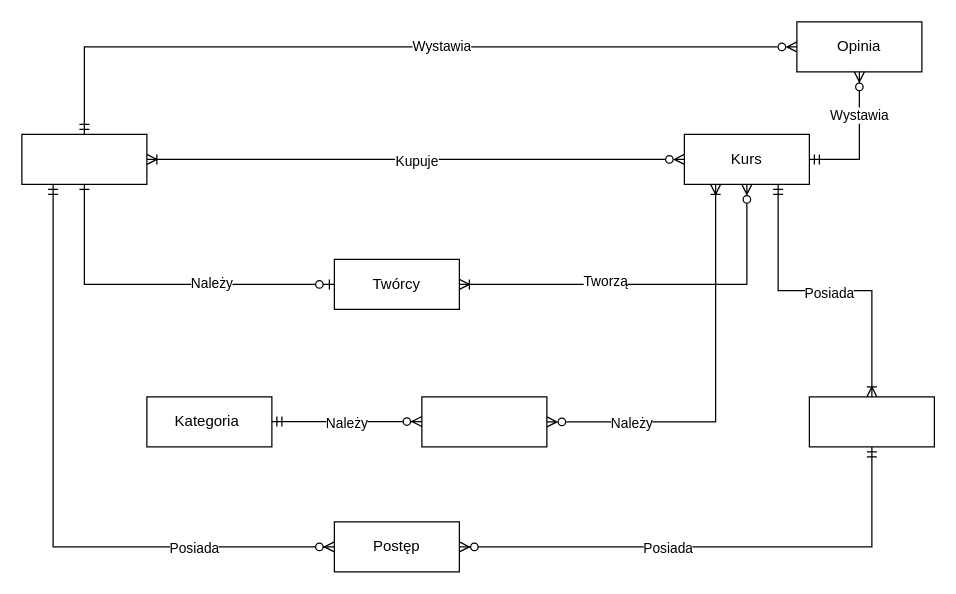
Some shapes in this 956 by 594 pixel diagram are drawn without their labels. Each missing label, with the box of its shape:
Etap: (808, 396, 934, 447)
Podkategoria: (421, 396, 547, 447)
Użytkownik: (21, 133, 147, 184)
